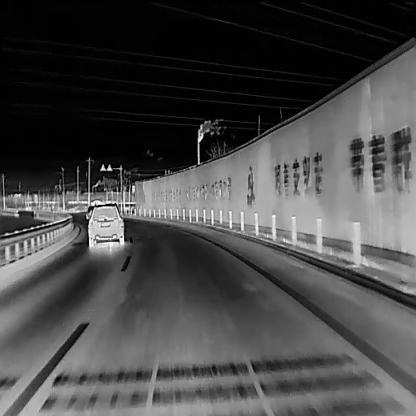car: (84, 201, 123, 250)
